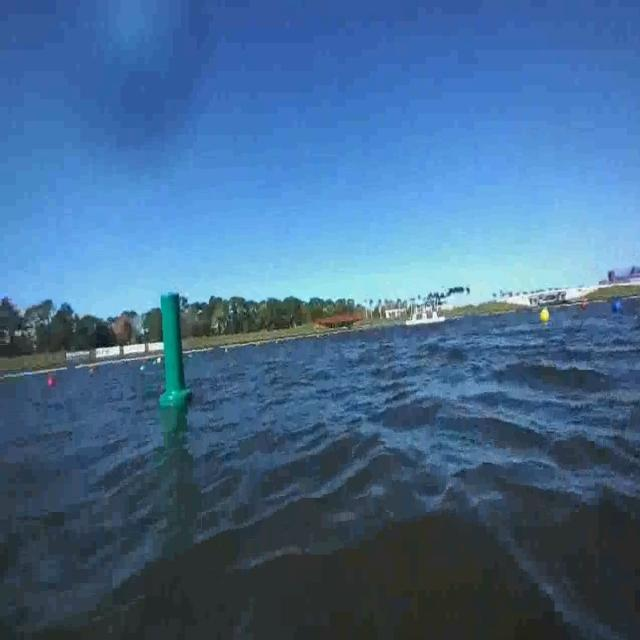blue-buoy: (613, 297, 624, 313)
green-column-buoy: (160, 290, 194, 410)
red-buoy: (47, 377, 55, 388)
yellow-buoy: (539, 306, 549, 324)
